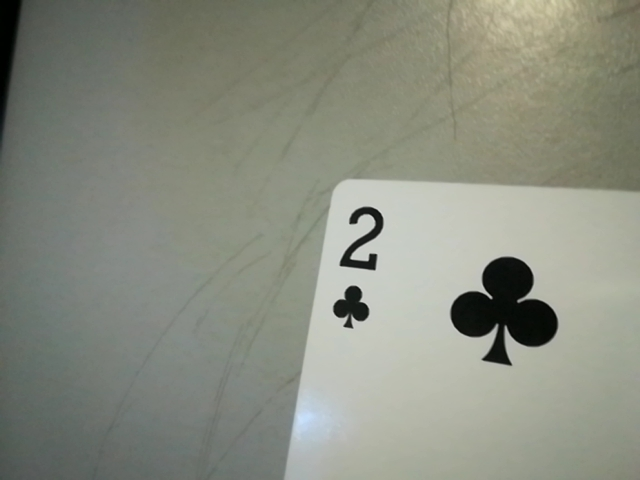mh 2: (324, 194, 396, 337)
